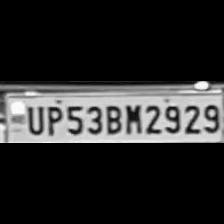2: (180, 101, 200, 135), (142, 100, 160, 136)
3: (84, 102, 103, 136)
5: (64, 102, 84, 136)
9: (200, 100, 220, 134), (162, 101, 180, 135)
B: (102, 102, 122, 136)
M: (122, 100, 142, 136)
P: (43, 102, 63, 136)
U: (23, 102, 44, 136)
